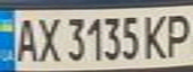1: (84, 14, 106, 62)
3: (63, 14, 84, 62), (103, 14, 124, 61)
5: (121, 12, 145, 61)
A: (9, 14, 39, 63)
K: (139, 11, 172, 61)
P: (160, 9, 193, 58)
X: (33, 12, 63, 64)
